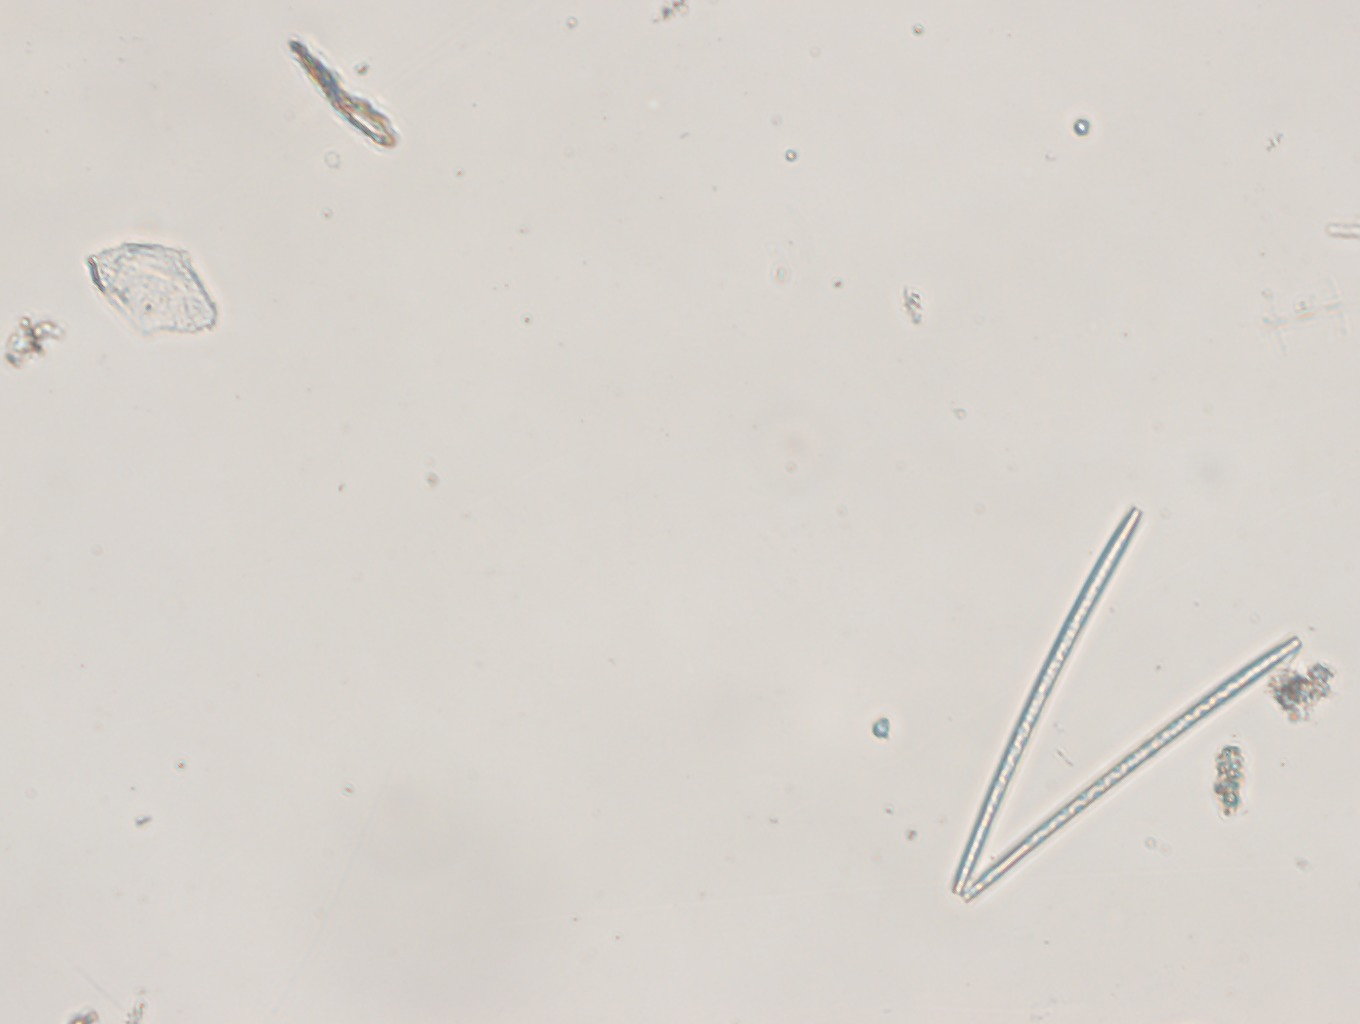thalassionema frauenfeldii: (950, 500, 1308, 904)
